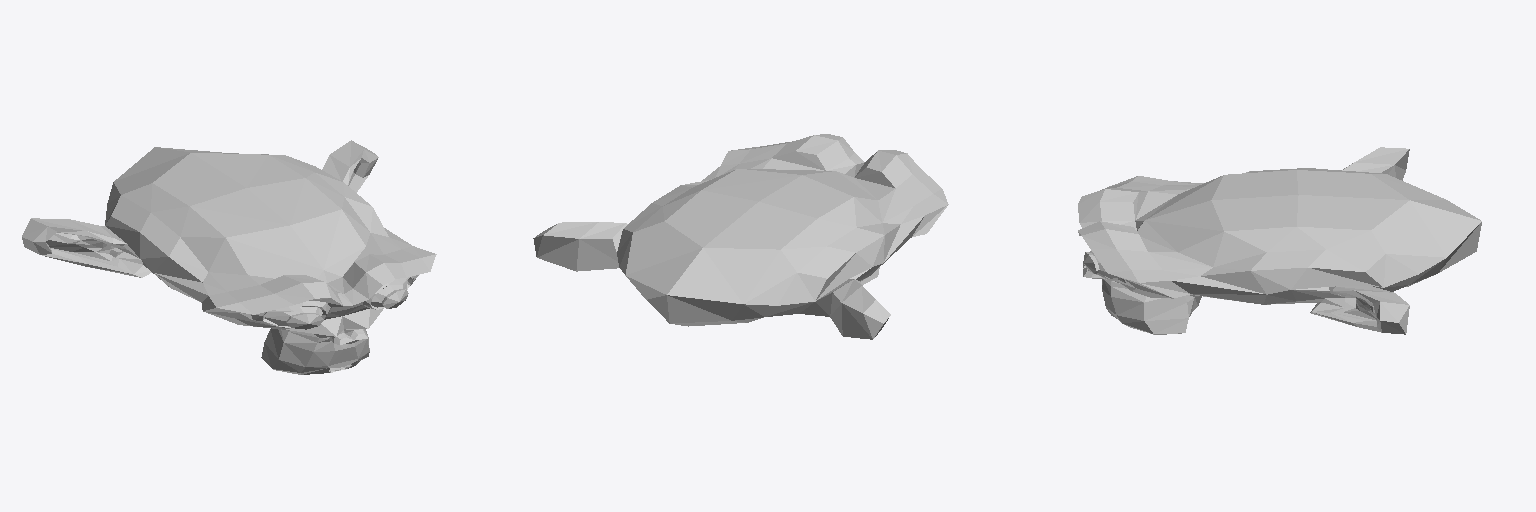
3 renders of one model, left to right at view 1: azimuth 30°, elevation 25°; view 2: azimuth 150°, elevation 25°; view 3: azimuth 270°, elevation 25°, orthographic.
Parts seen in each view (by area): view 1: Suzanne.000; view 2: Suzanne.000; view 3: Suzanne.000.
Part boxes in pixels (x1,y1,x2,y2): Suzanne.000: (22,140,436,374); Suzanne.000: (533,134,948,339); Suzanne.000: (1078,147,1481,334).
Size of the model in its own units: 3 by 1 by 3.